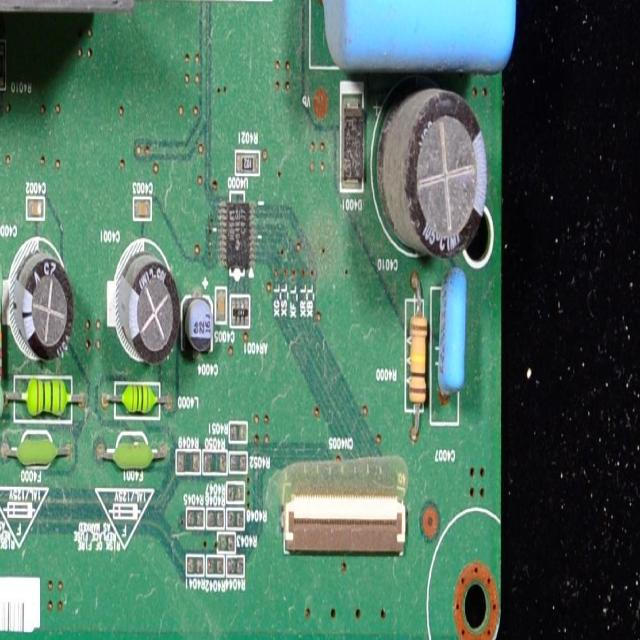IC: (215, 188, 258, 278)
capacitor: (393, 89, 491, 266), (324, 0, 520, 77), (117, 245, 183, 372), (12, 254, 75, 369), (436, 266, 466, 414), (183, 286, 214, 364), (23, 166, 47, 223), (129, 173, 156, 223), (215, 283, 227, 328)
connector: (281, 496, 409, 556)
resistor: (407, 298, 427, 428), (0, 32, 10, 109), (175, 448, 202, 473), (0, 215, 3, 432), (237, 145, 259, 174), (205, 503, 225, 531), (204, 451, 226, 472), (226, 506, 245, 530), (229, 424, 248, 446), (208, 552, 223, 578), (231, 448, 246, 473), (228, 554, 244, 576), (186, 508, 203, 528), (189, 557, 204, 579), (227, 484, 244, 500), (218, 533, 234, 548)
